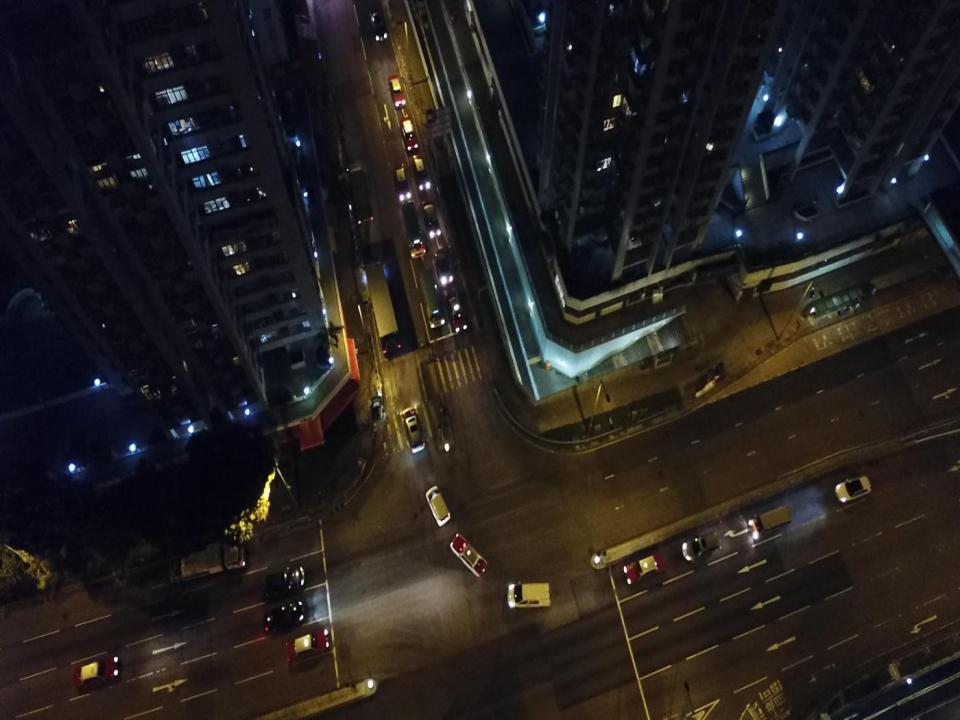bus: (418, 268, 446, 329), (401, 201, 427, 260)
car: (72, 652, 122, 691), (450, 533, 488, 578), (284, 627, 330, 663), (622, 551, 666, 587), (264, 598, 306, 632), (507, 579, 551, 610), (264, 564, 306, 596), (400, 406, 426, 455), (682, 530, 721, 562), (834, 474, 873, 505), (425, 484, 451, 526), (432, 248, 455, 286), (422, 198, 442, 240), (448, 294, 468, 334), (367, 6, 389, 42), (392, 160, 412, 199), (412, 152, 432, 190), (399, 116, 420, 151), (388, 73, 406, 109)
truck: (362, 258, 403, 354), (168, 535, 247, 584), (346, 166, 374, 225)
van: (748, 502, 793, 536)
